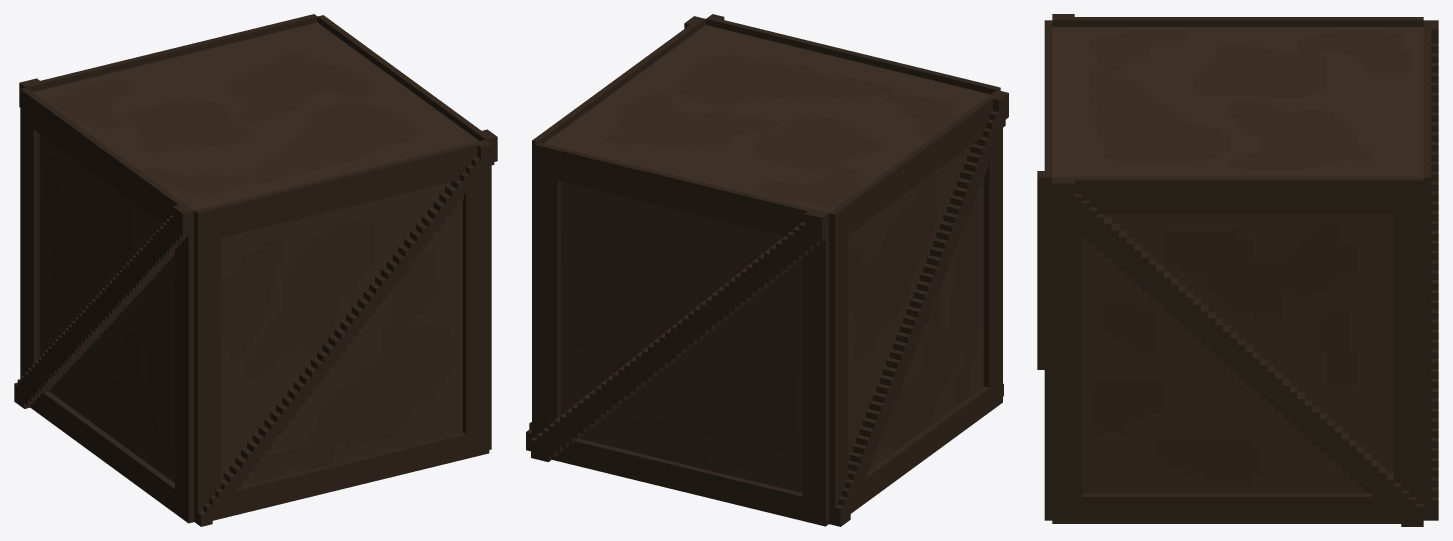
The picture shows the model from 3 angles, left to right: view 1: azimuth 30°, elevation 25°; view 2: azimuth 150°, elevation 25°; view 3: azimuth 270°, elevation 25°; orthographic projection. The views are drawn at different scales.
Visible parts, largest first — view 1: box; view 2: box; view 3: box.
Boxes of the visible parts, left/top/right/bottom form: box: left=14, top=14, right=497, bottom=526; box: left=526, top=14, right=1008, bottom=526; box: left=1037, top=14, right=1438, bottom=526.
Size of the model in its own units: 5.4 by 5.1 by 5.4.
1 material, 1 textured.
